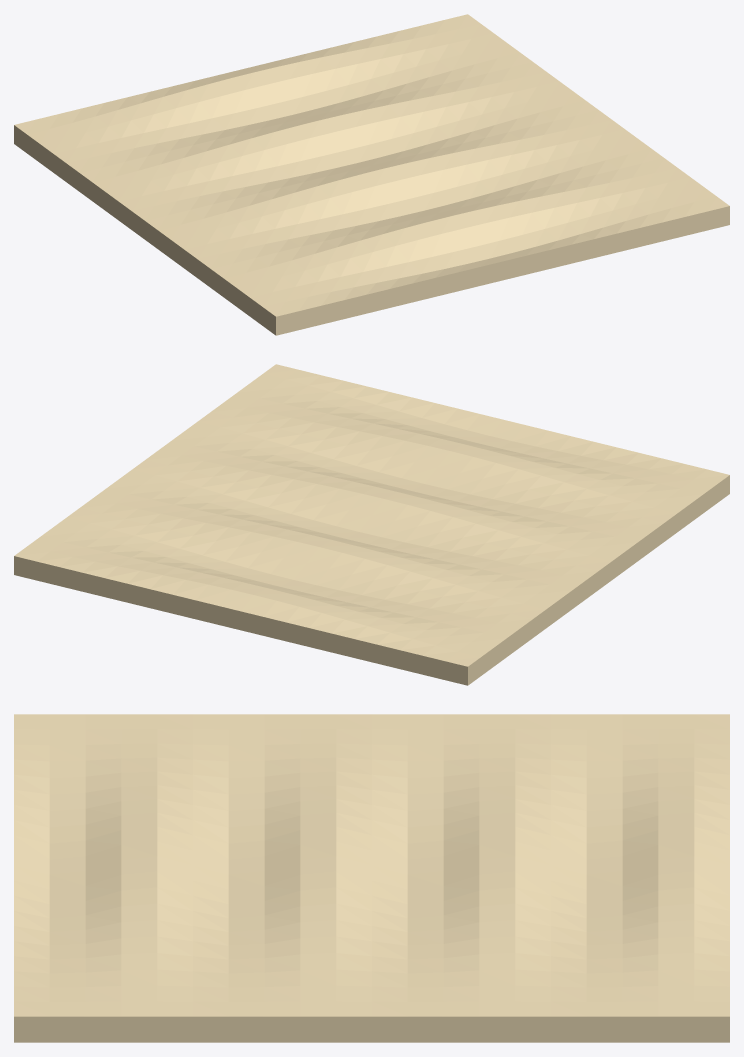
File: island_sand_ripple_tile_tropical_island_and_palm_trees_6833.glb
3 views of the same model, one above another, from view 1: azimuth 30°, elevation 25°; view 2: azimuth 150°, elevation 25°; view 3: azimuth 270°, elevation 25° (orthographic). The views are drawn at different scales.
Visible parts, largest first — view 1: sand-ripple-tile; view 2: sand-ripple-tile; view 3: sand-ripple-tile.
Part boxes in pixels (x1,y1,x2,y2): sand-ripple-tile: [14, 14, 729, 335]; sand-ripple-tile: [14, 364, 729, 685]; sand-ripple-tile: [14, 714, 729, 1042].
Size of the model in its own units: 4 by 0.2168 by 4.
